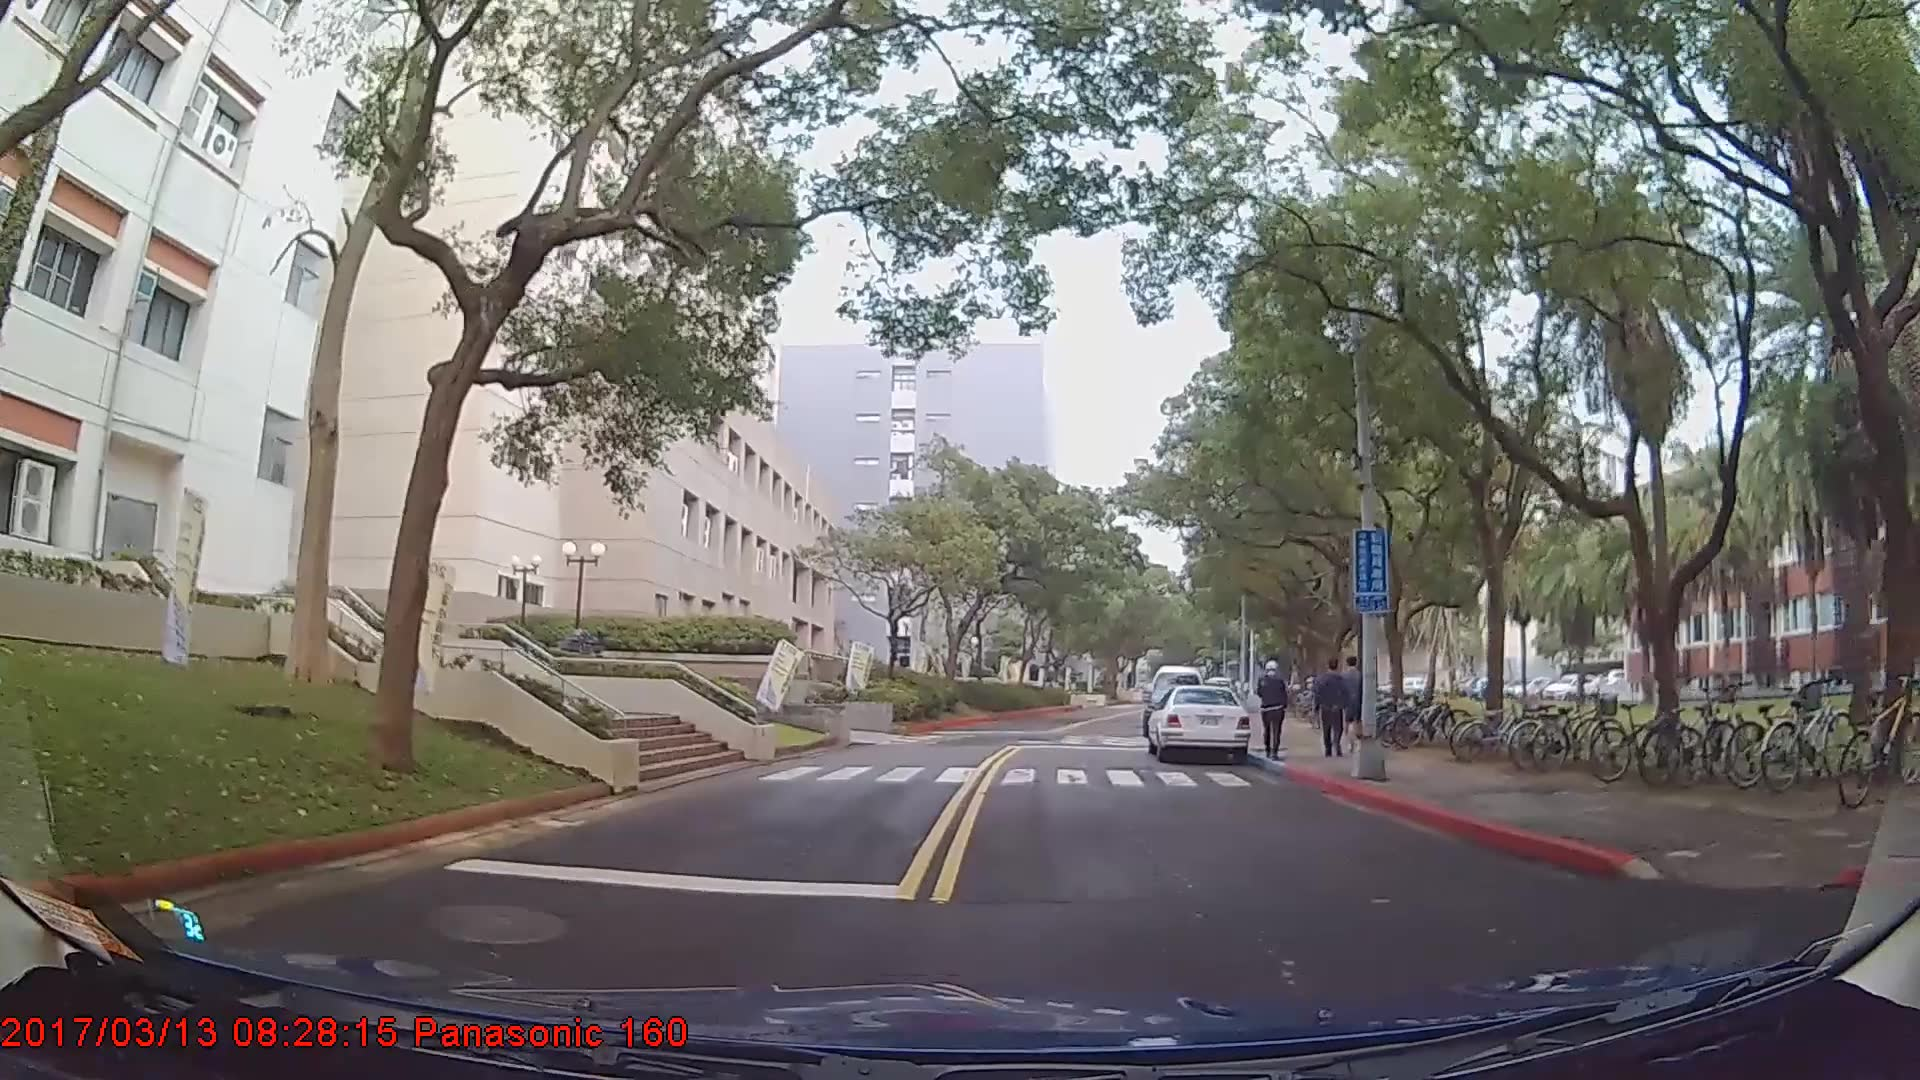pedestrian: (1318, 656, 1356, 758), (1258, 661, 1289, 762)
vehicle: (1141, 683, 1251, 761)
